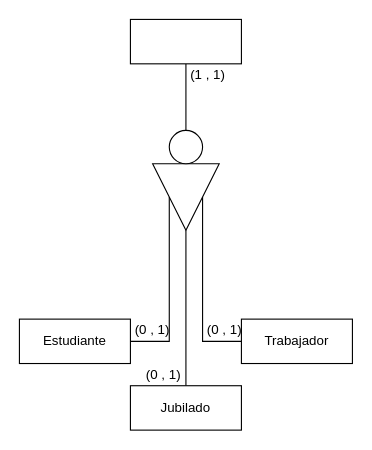
This 372x450 diagram has some shape labels left out. Here are the shapes that lost their labels. From the top down, the centre of each, then its label:
At pixel 185 41: "Persona".
At pixel 185 196: "Es".
